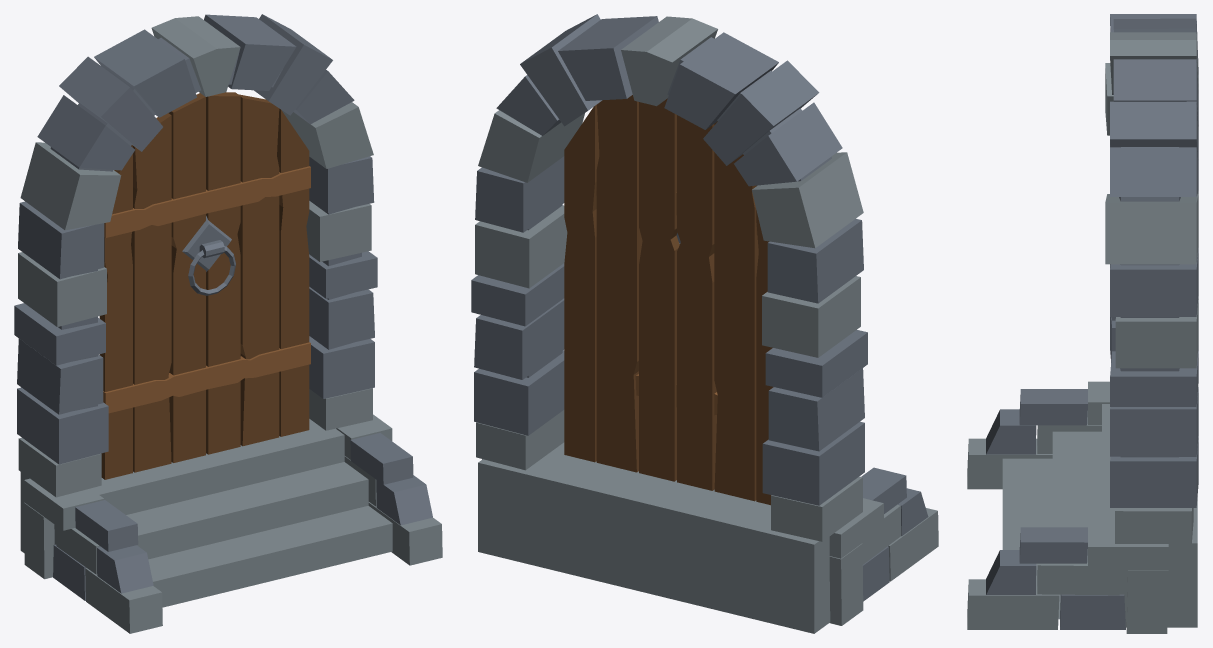
Rendered from Round Door.fbx.
The picture shows the model from 3 angles, left to right: view 1: azimuth 30°, elevation 25°; view 2: azimuth 150°, elevation 25°; view 3: azimuth 270°, elevation 25°; orthographic projection. The views are drawn at different scales.
Parts seen in each view (by area): view 1: Doorway, Gate; view 2: Doorway, Gate; view 3: Doorway.
Boxes of the visible parts, x1,y1,x2,y2 form: Doorway: (14,14,442,633); Gate: (99,92,310,479); Doorway: (471,14,938,633); Gate: (564,95,773,505); Doorway: (967,14,1198,633).
Size of the model in its own units: 29.64 by 72.26 by 50.14.
